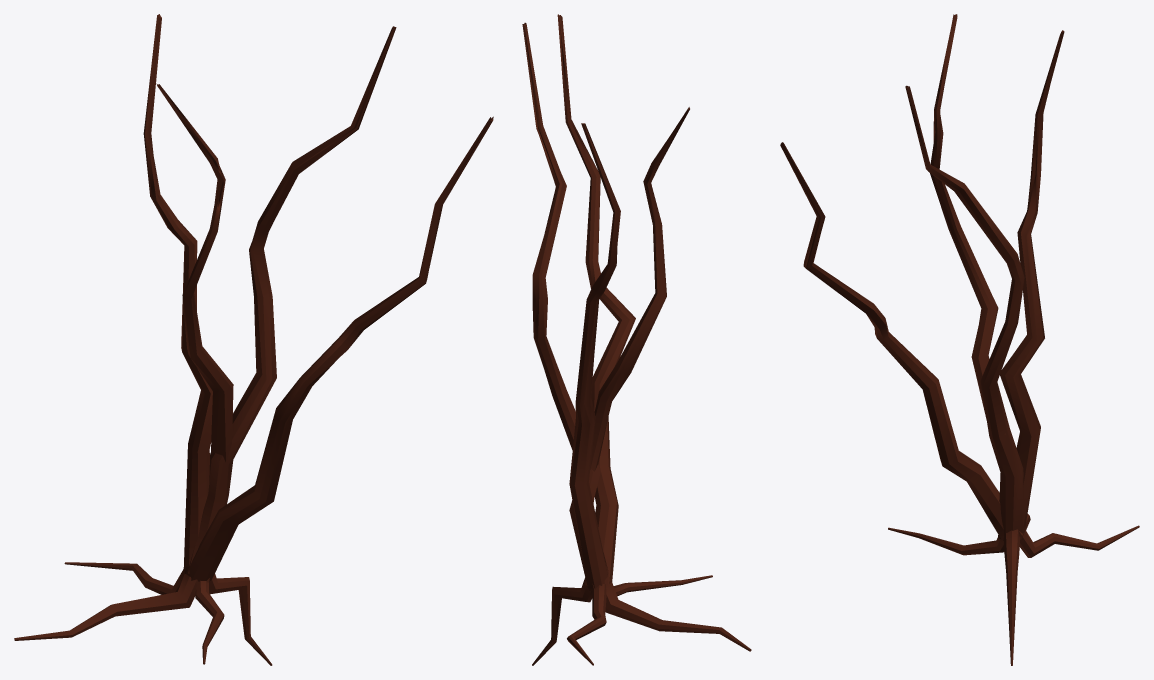
The model's file is Arbre.FBX.
3 renders of one model, left to right at view 1: azimuth 30°, elevation 25°; view 2: azimuth 150°, elevation 25°; view 3: azimuth 270°, elevation 25°, orthographic. The views are drawn at different scales.
Visible parts, largest first — view 1: Tree; view 2: Tree; view 3: Tree.
Part boxes in pixels (x1,y1,x2,y2): Tree: [14, 14, 493, 665]; Tree: [522, 14, 751, 665]; Tree: [780, 14, 1139, 665].
Bounding box in the file's own units: 1145 × 2089 × 1117.
